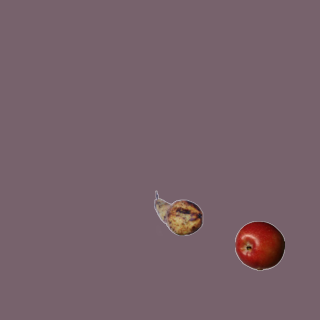Apple Braeburn: (234, 220, 284, 270)
Pear Abate: (153, 188, 203, 238)
